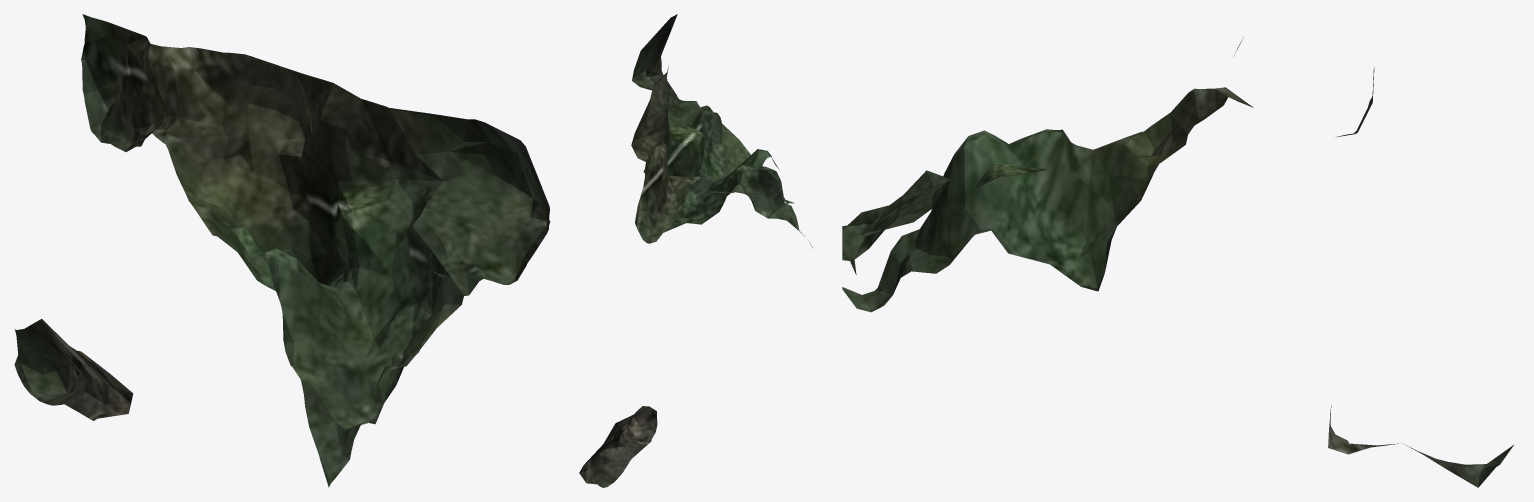
3 renders of one model, left to right at view 1: azimuth 30°, elevation 25°; view 2: azimuth 150°, elevation 25°; view 3: azimuth 270°, elevation 25°, orthographic. The views are drawn at different scales.
Size of the model in its own units: 2.52 by 4.38 by 5.9.
Materials: 1 (1 with a texture image).
